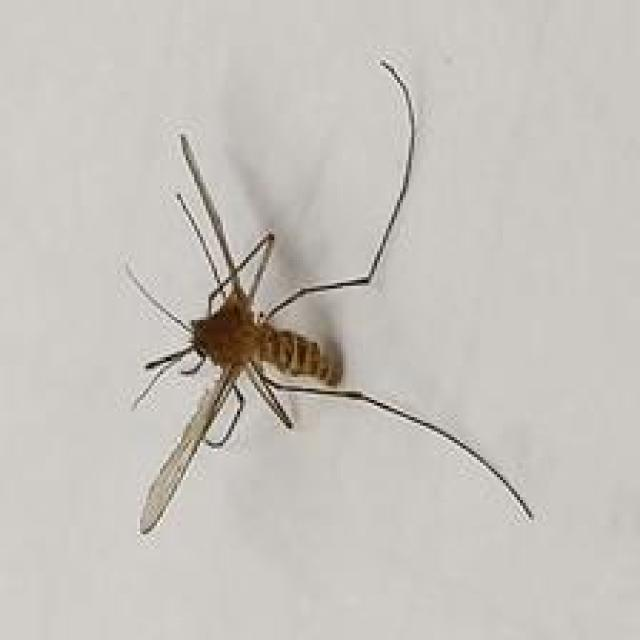Culex: (121, 57, 536, 537)
